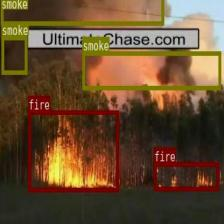fire: (28, 110, 118, 191), (153, 162, 218, 190)
smoke: (82, 51, 220, 89), (0, 0, 163, 25), (1, 36, 27, 74)
